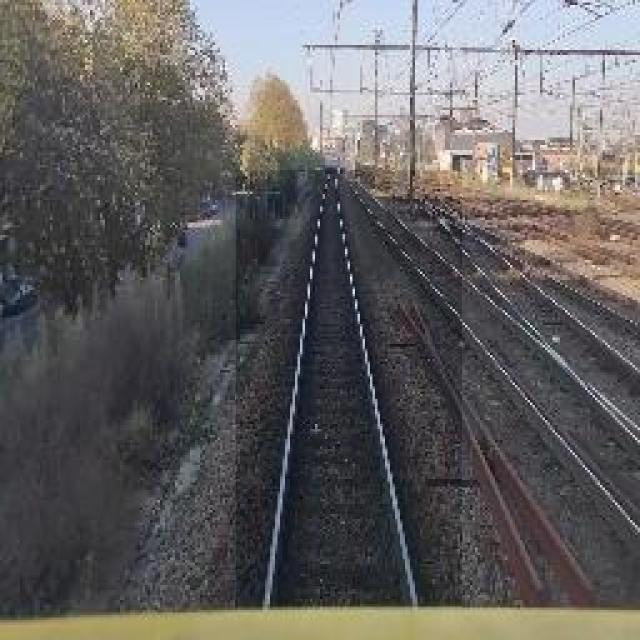rail: (237, 172, 463, 609)
